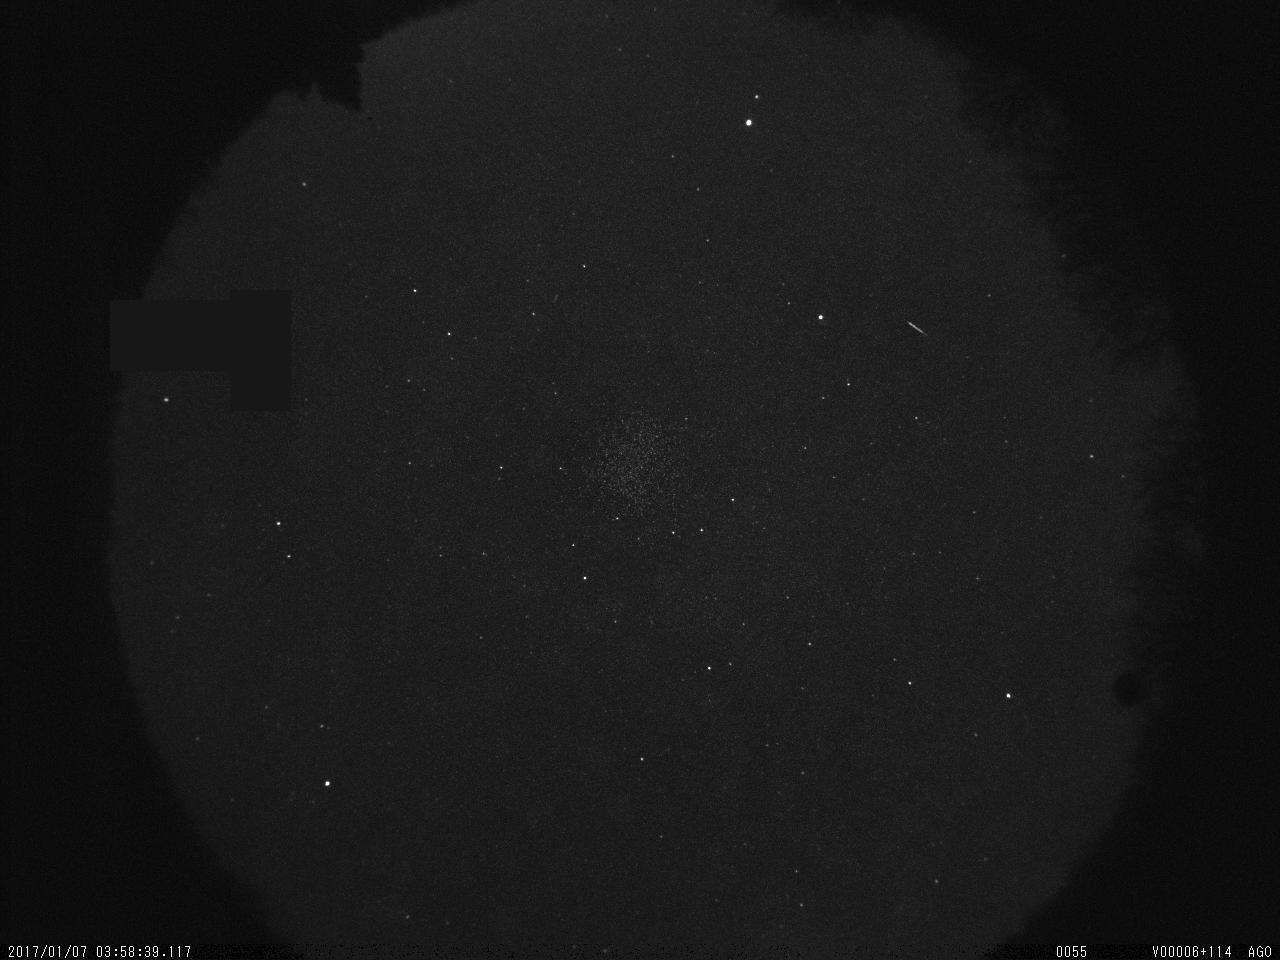Meteor: (902, 318, 928, 337)
